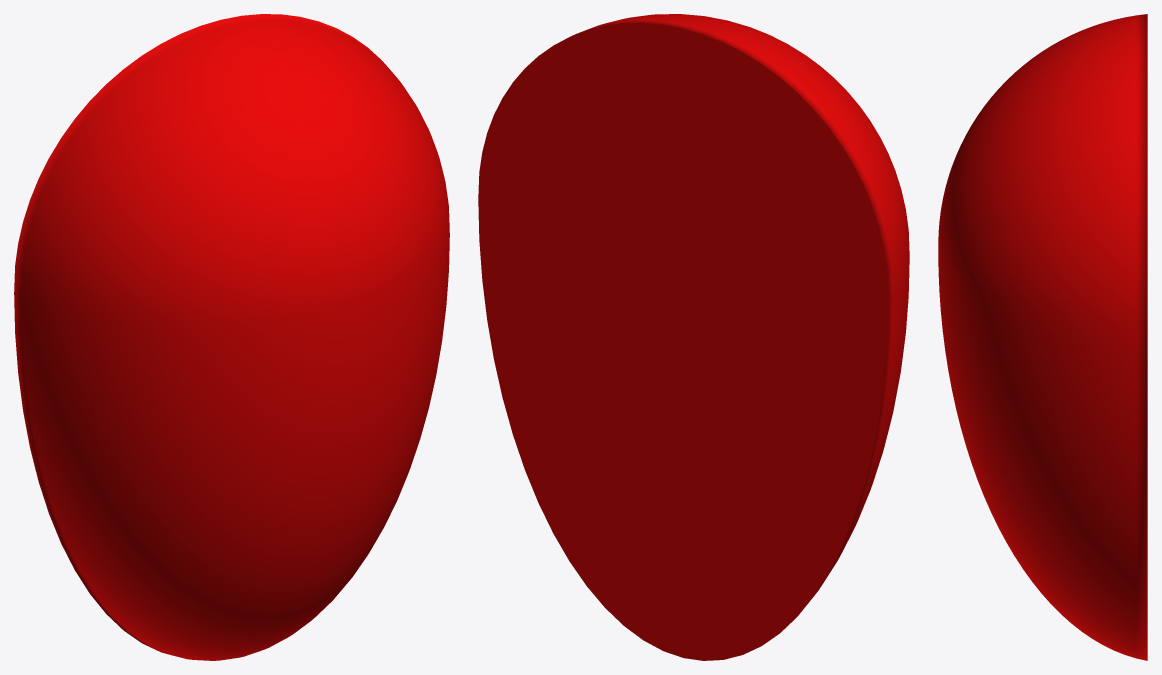
File: Hand.dae
3 renders of one model, left to right at view 1: azimuth 30°, elevation 25°; view 2: azimuth 150°, elevation 25°; view 3: azimuth 270°, elevation 25°, orthographic. The views are drawn at different scales.
Visible parts, largest first — view 1: Sphere; view 2: Sphere; view 3: Sphere.
Boxes of the visible parts, x1,y1,x2,y2 form: Sphere: (14,14,449,660); Sphere: (478,14,909,660); Sphere: (938,14,1147,660).
Bounding box in the file's own units: 1.99 × 0.902 × 2.92.
